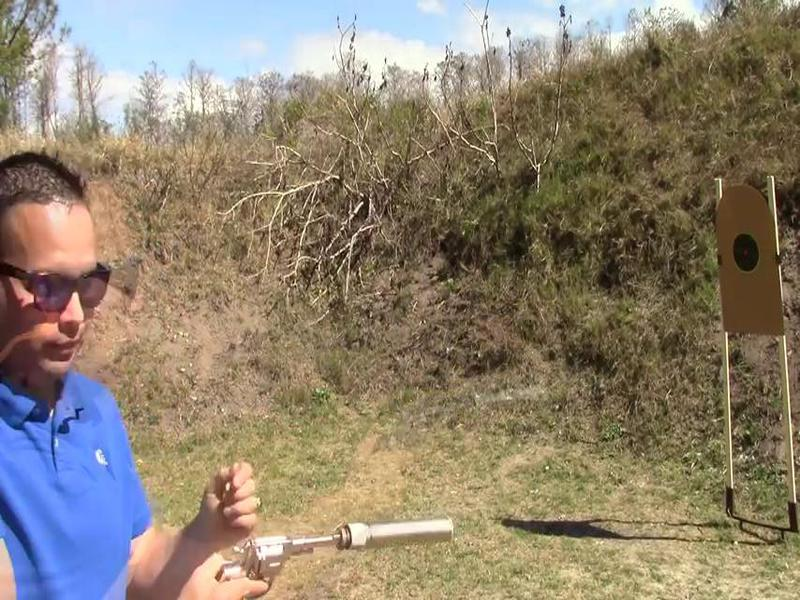Revolver: (215, 517, 348, 600)
